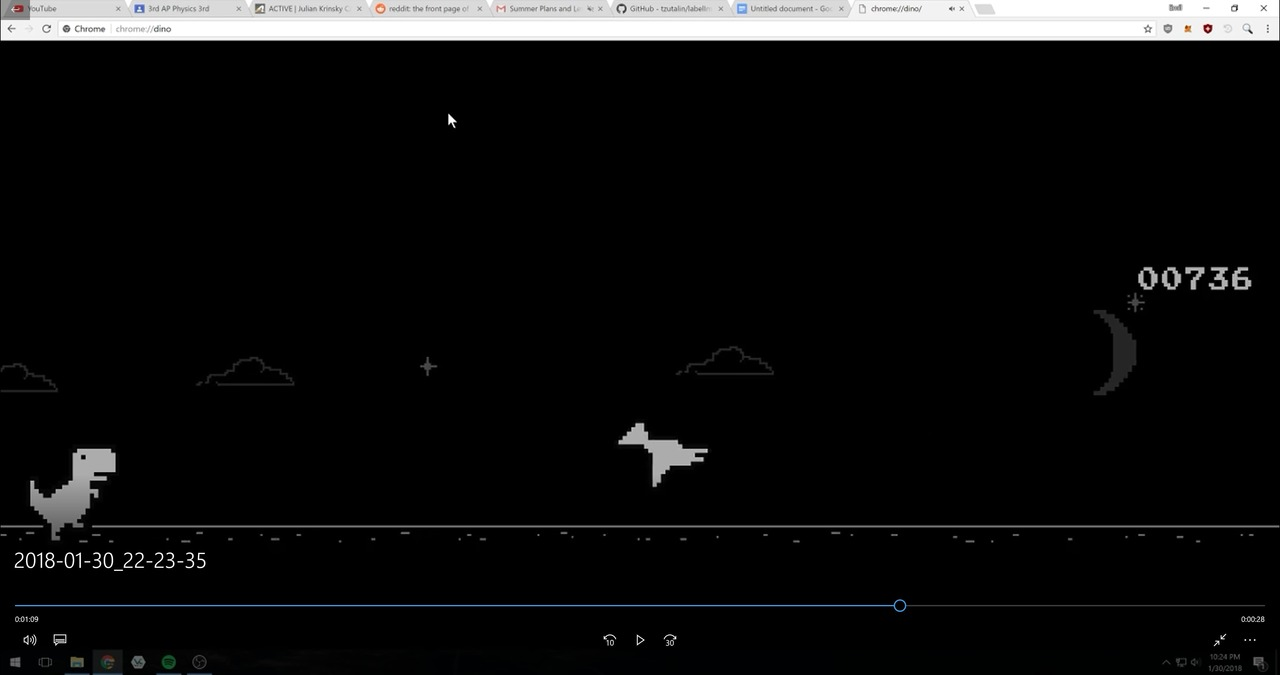bird: (615, 414, 710, 490)
dinosaur: (30, 445, 117, 544)
